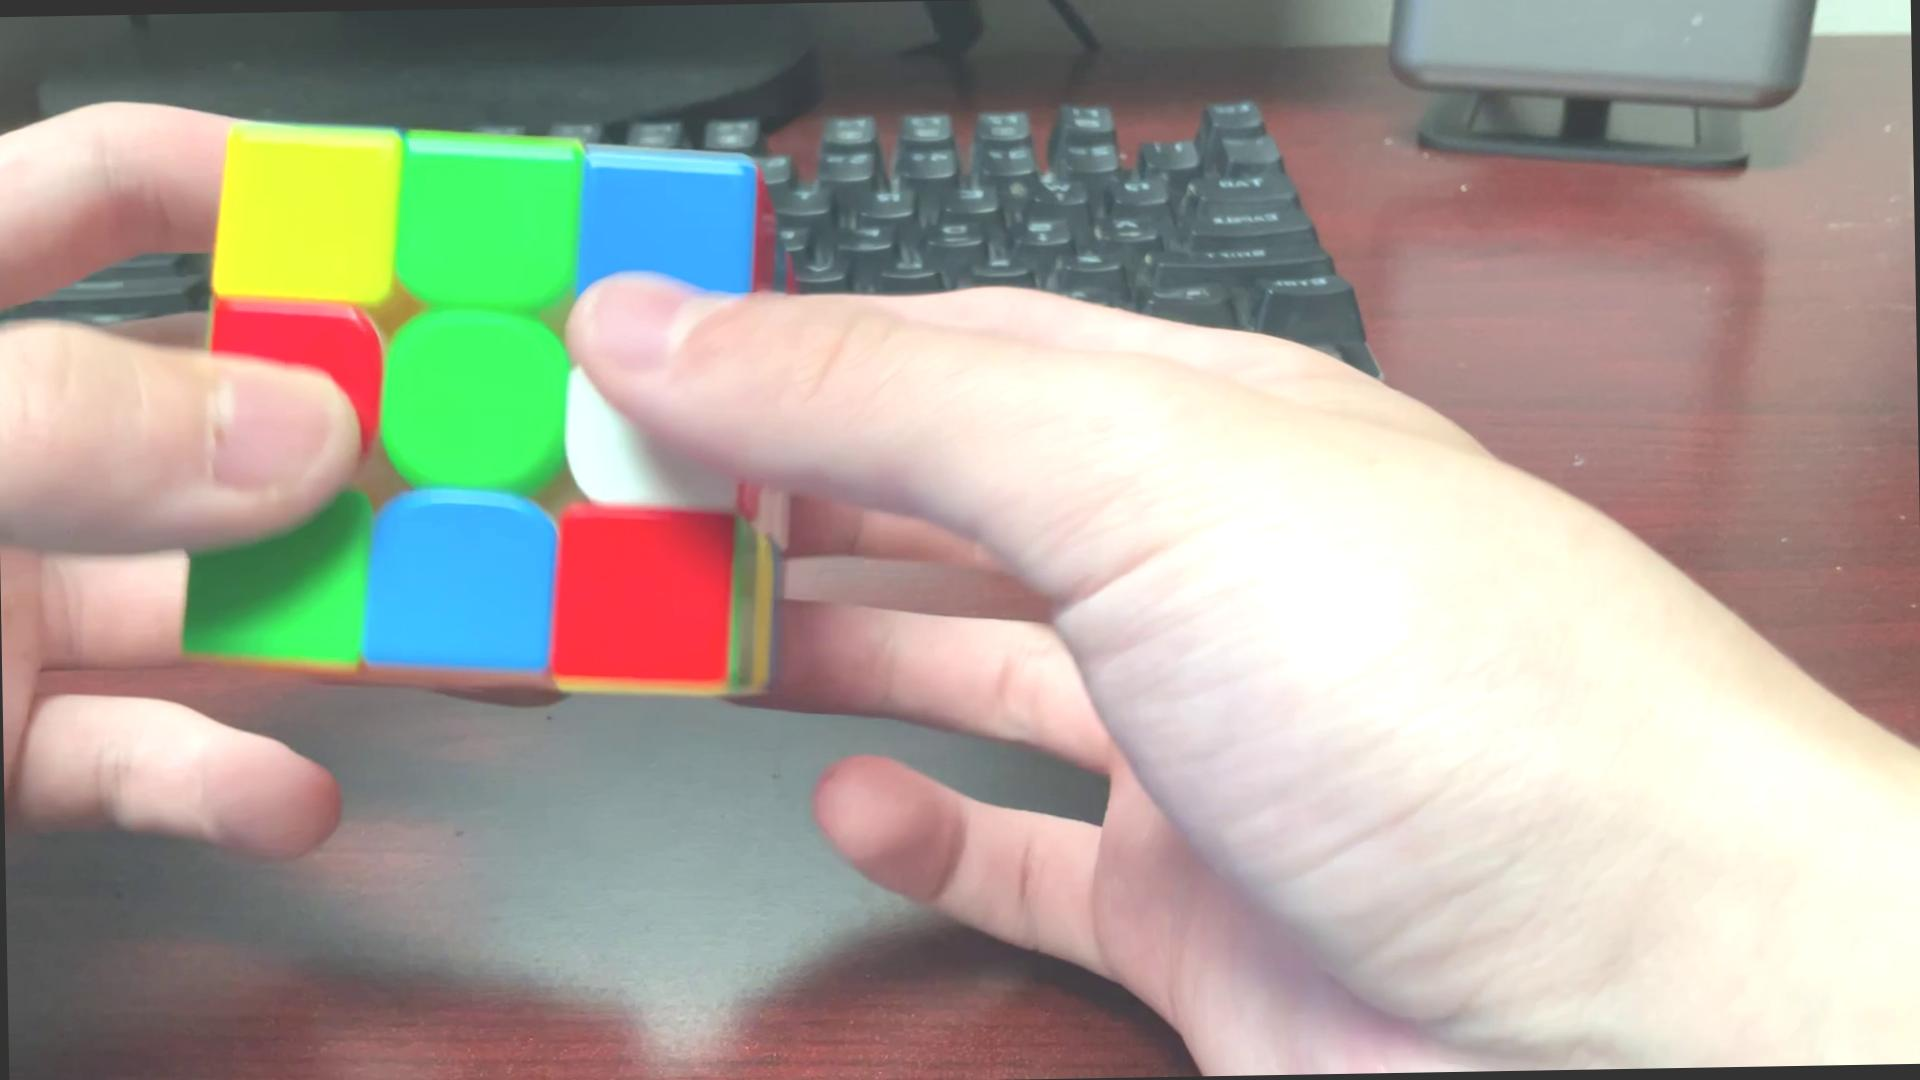Rubiks-Cube: (154, 106, 792, 706)
